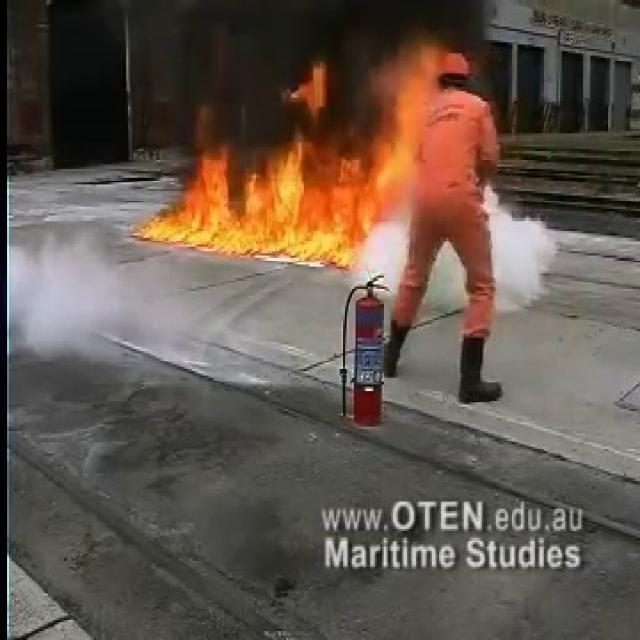Fire: (142, 46, 446, 248)
Smoke: (144, 0, 523, 122)
